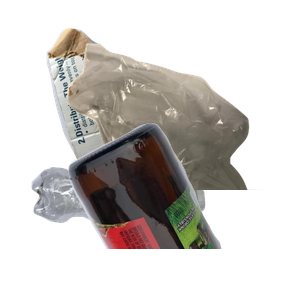cardboard: (44, 26, 209, 186)
glass: (66, 120, 300, 300)
plastic: (29, 165, 227, 300)
trash: (65, 41, 300, 221)
